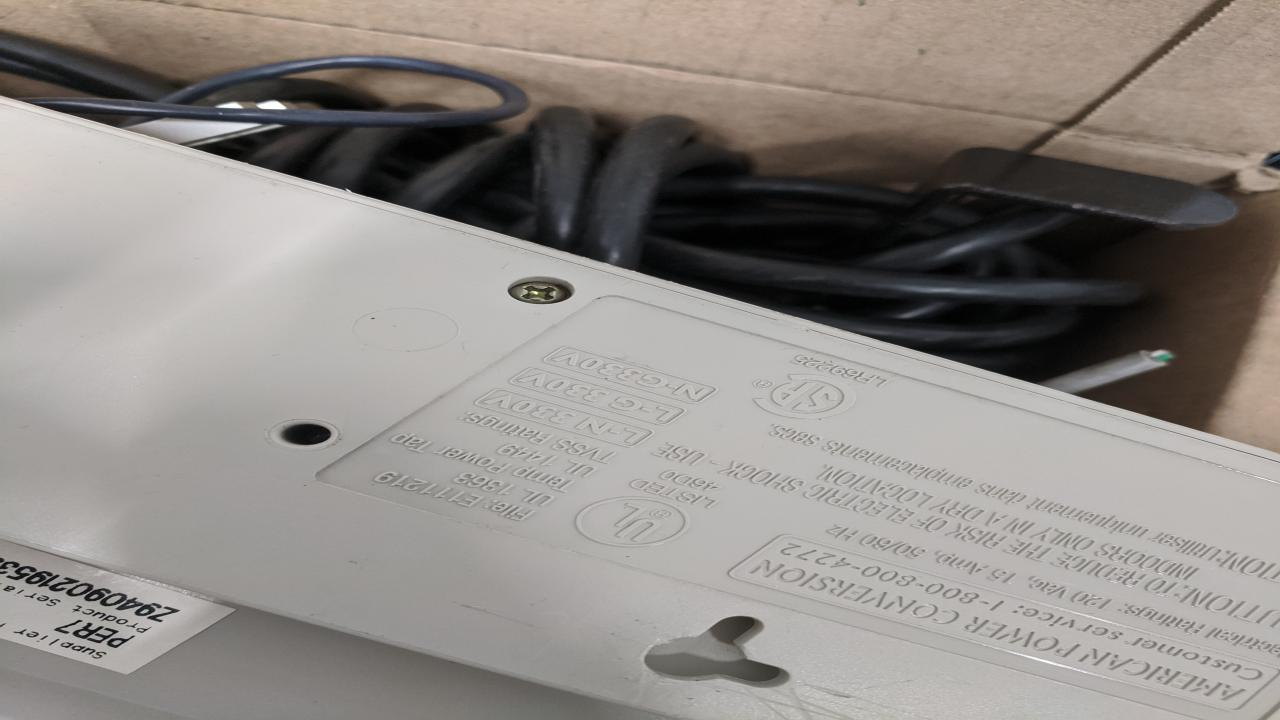CRS: (509, 278, 576, 304)
